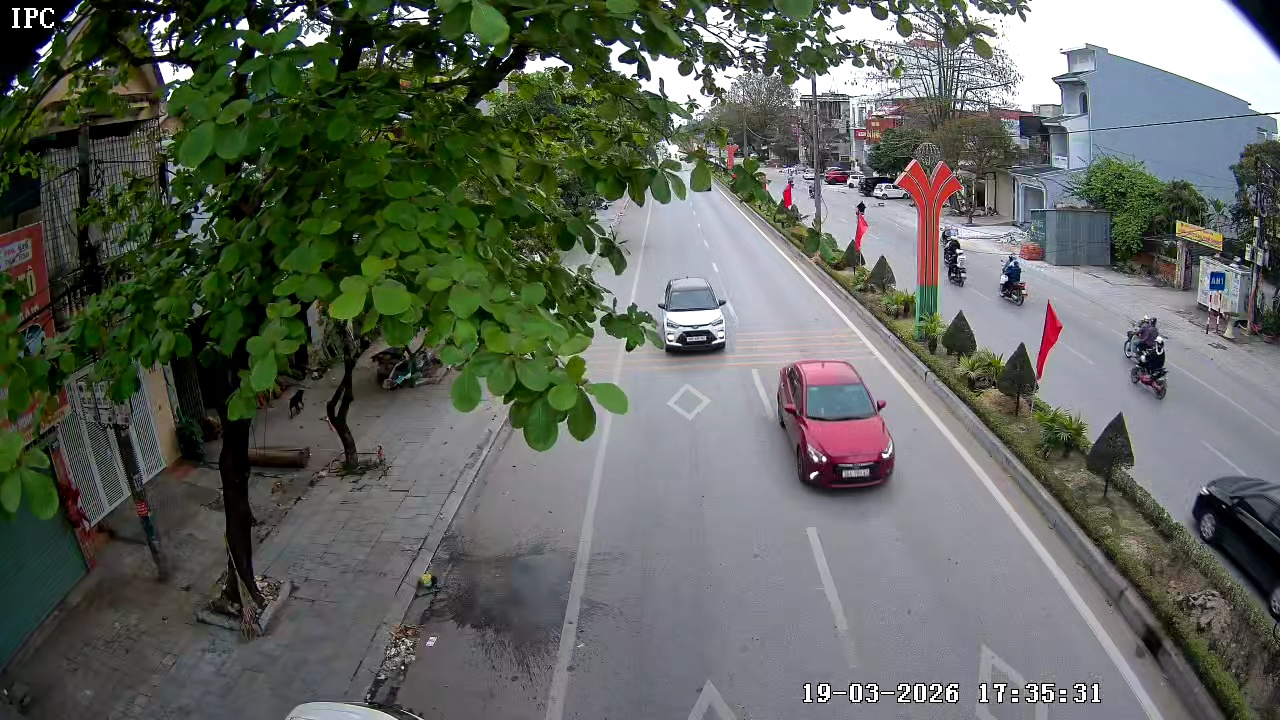car: (776, 359, 895, 487), (1190, 472, 1279, 598), (657, 274, 733, 353)
motorbike: (1128, 320, 1171, 401), (1122, 314, 1164, 364), (998, 252, 1029, 307), (945, 234, 969, 288)
